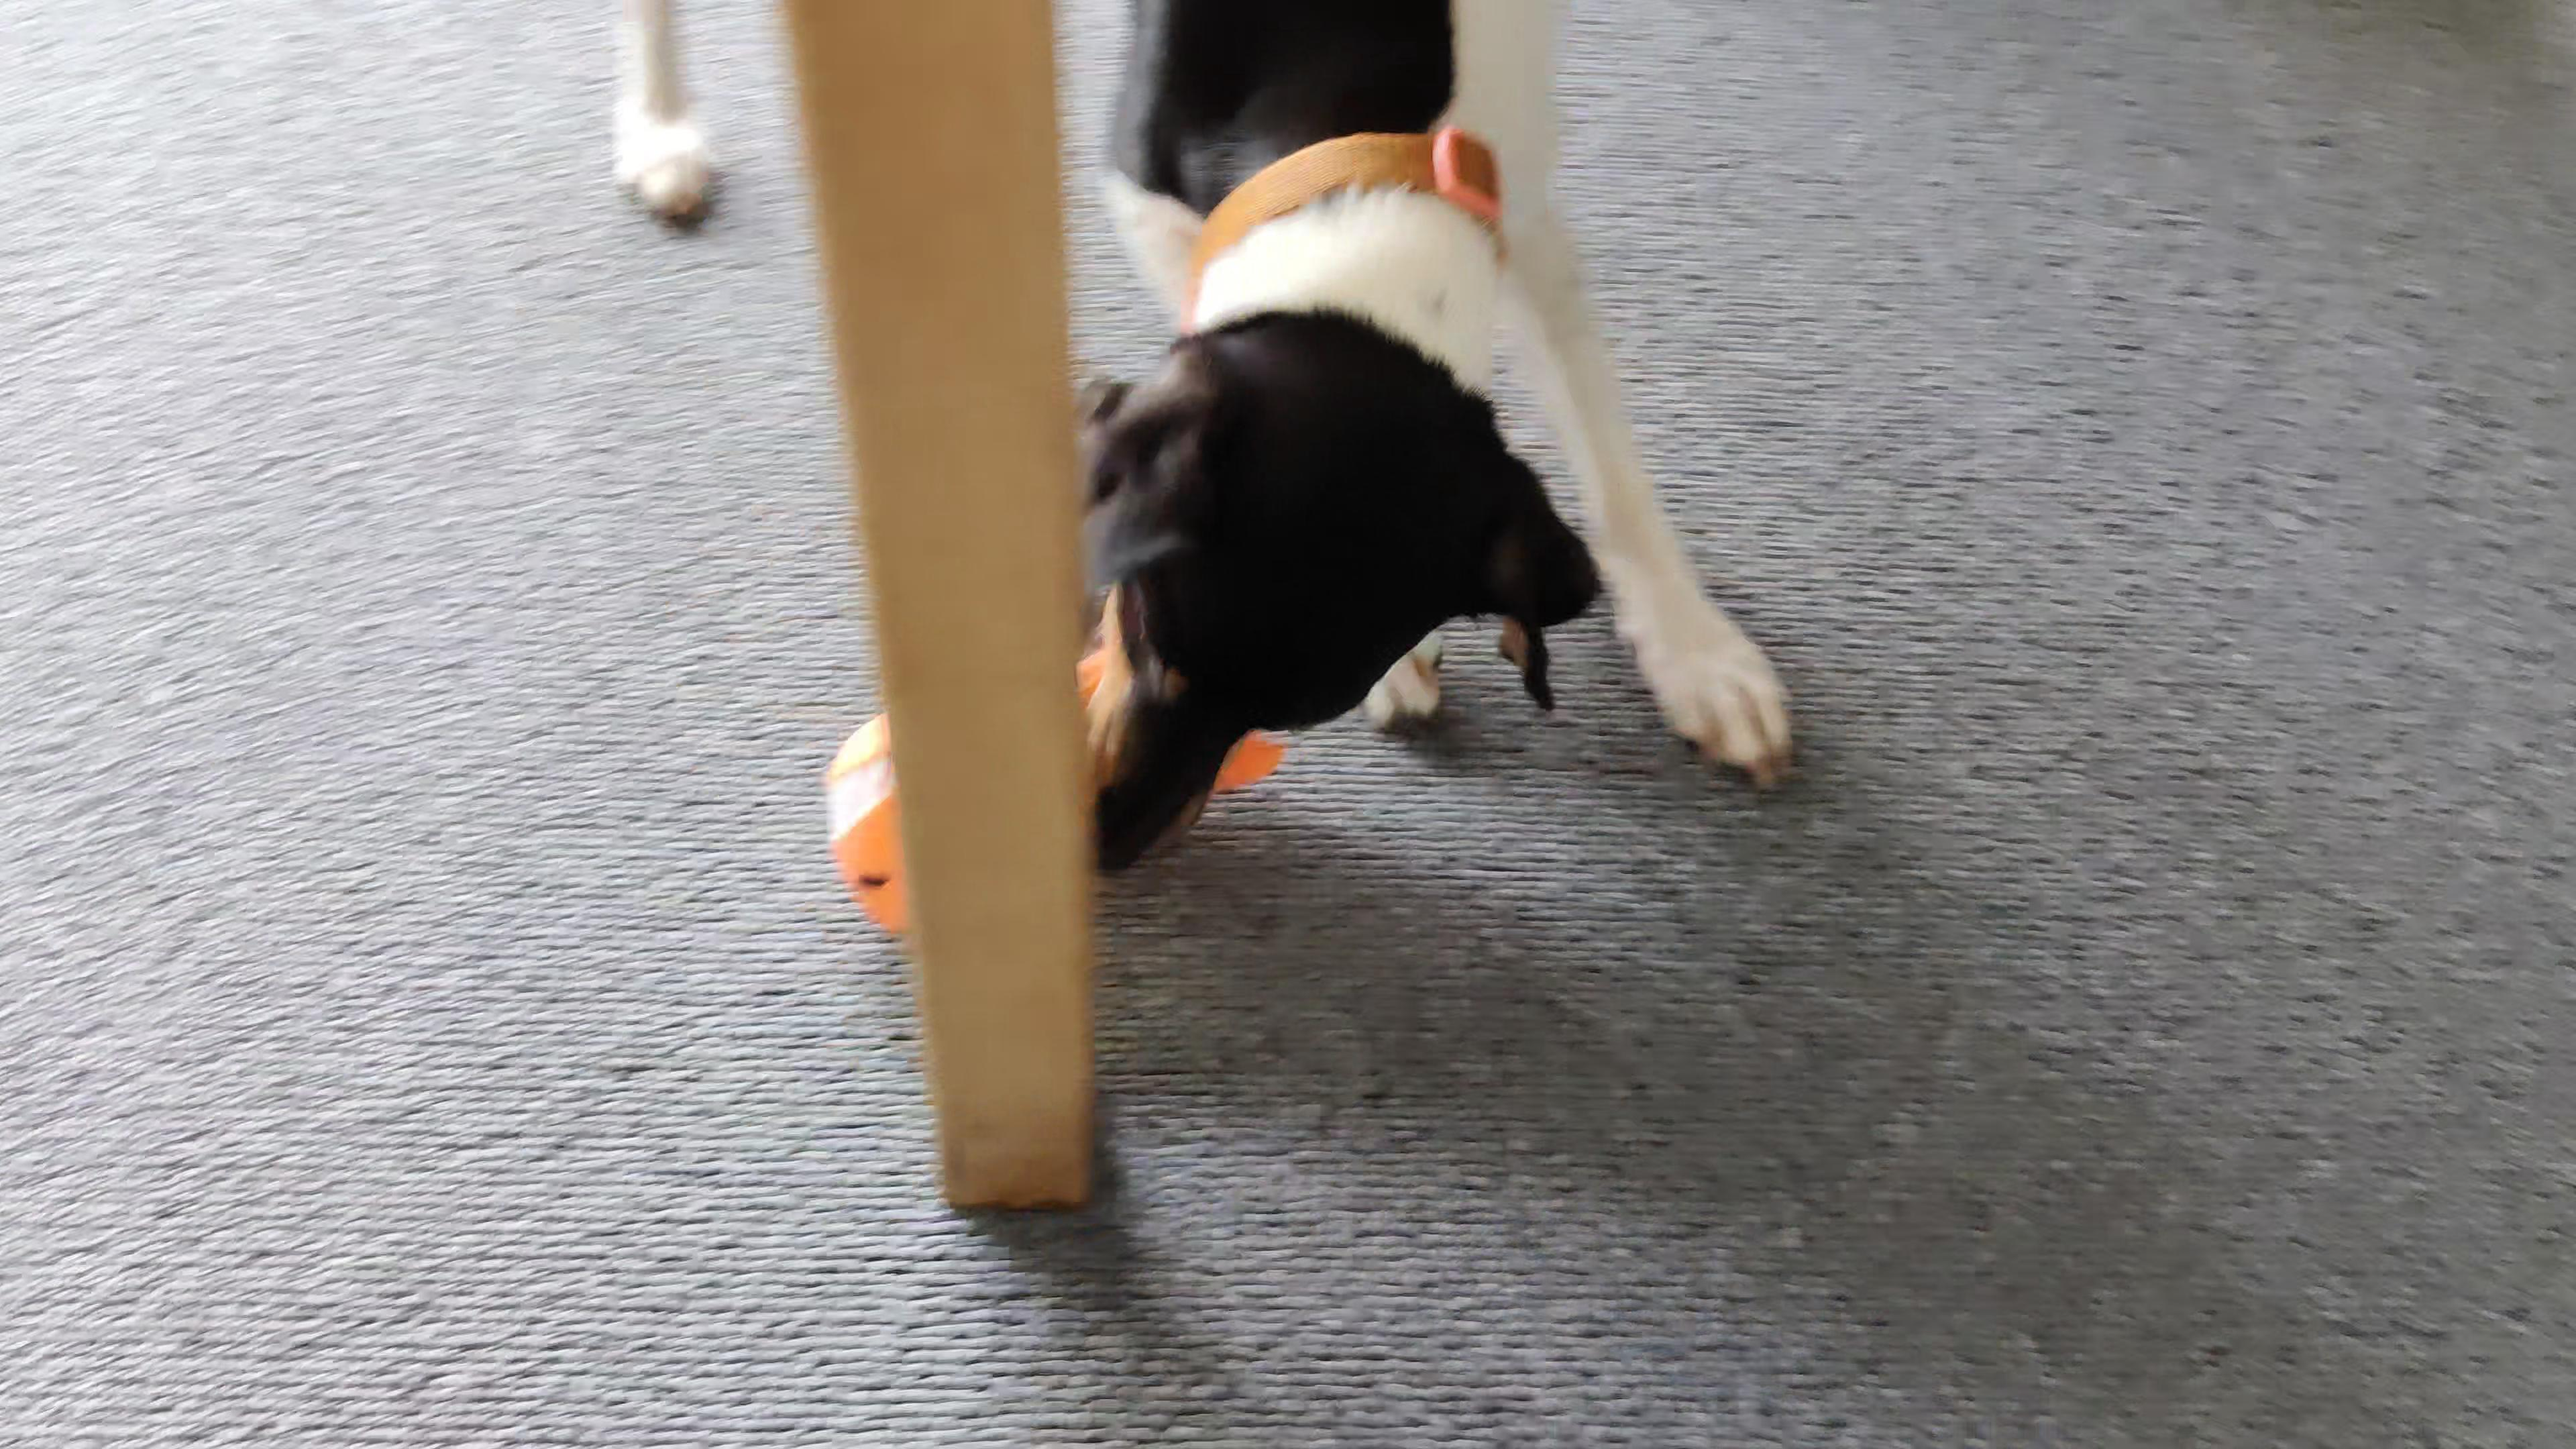Dog: (586, 0, 1812, 893)
